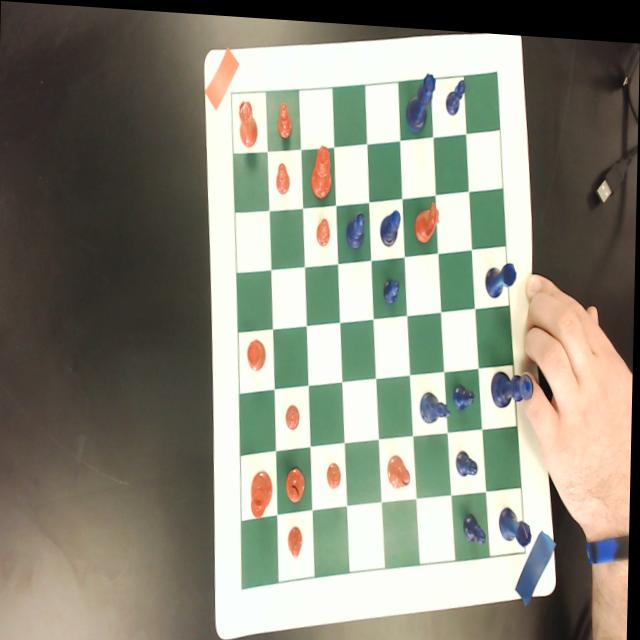B: (380, 202, 401, 241), (346, 205, 366, 244)
K: (491, 361, 534, 402)
N: (420, 384, 453, 418)
P: (445, 70, 466, 109), (456, 441, 481, 472), (465, 504, 487, 539), (453, 376, 476, 407), (383, 270, 402, 300)
Q: (405, 64, 436, 127)
R: (498, 498, 535, 538), (485, 251, 518, 291)
b: (388, 447, 413, 483), (286, 461, 307, 501)
k: (252, 464, 275, 515)
n: (413, 192, 440, 237)
p: (277, 97, 293, 136), (276, 156, 291, 191), (289, 519, 304, 554), (316, 211, 331, 242), (286, 398, 301, 425), (328, 456, 342, 484)
q: (311, 139, 332, 195)
r: (238, 96, 258, 143), (246, 333, 267, 368)
